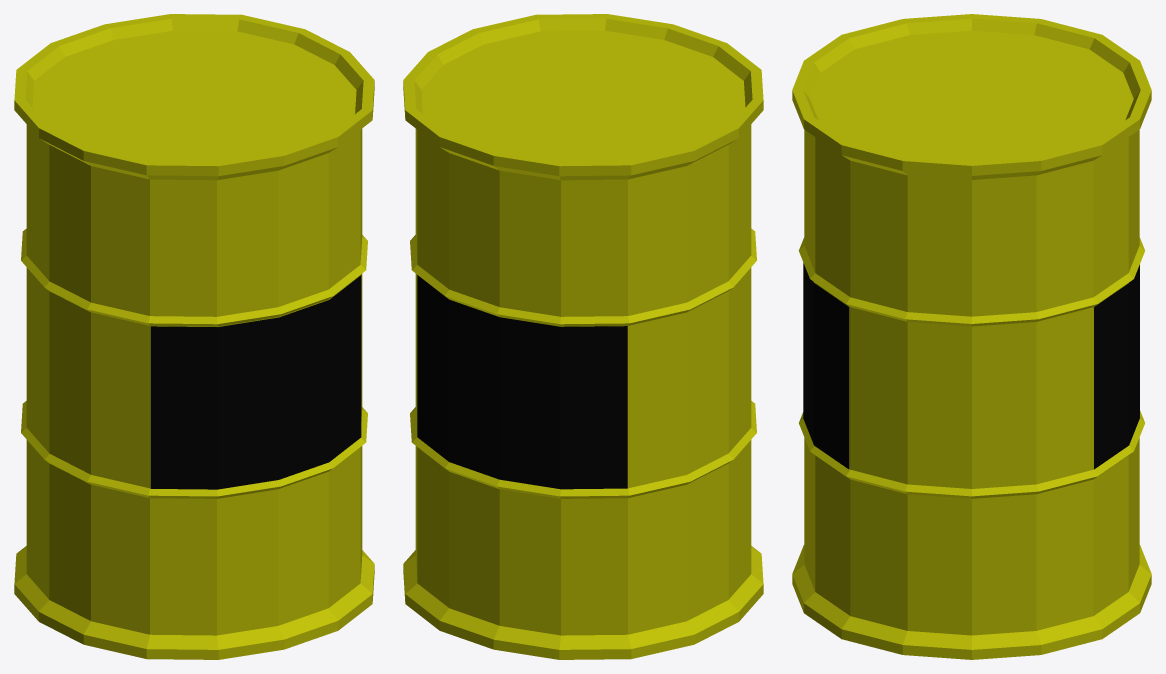
Rendered from RadioactiveHazard.fbx.
The picture shows the model from 3 angles, left to right: view 1: azimuth 30°, elevation 25°; view 2: azimuth 150°, elevation 25°; view 3: azimuth 270°, elevation 25°; orthographic projection.
Parts seen in each view (by area): view 1: RadioactiveBarrel; view 2: RadioactiveBarrel; view 3: RadioactiveBarrel.
Part boxes in pixels (box(x1,y1,x2,y2)): RadioactiveBarrel: box(14, 14, 374, 659); RadioactiveBarrel: box(403, 14, 763, 659); RadioactiveBarrel: box(792, 14, 1151, 659).
Size of the model in its own units: 215 by 325 by 215.
